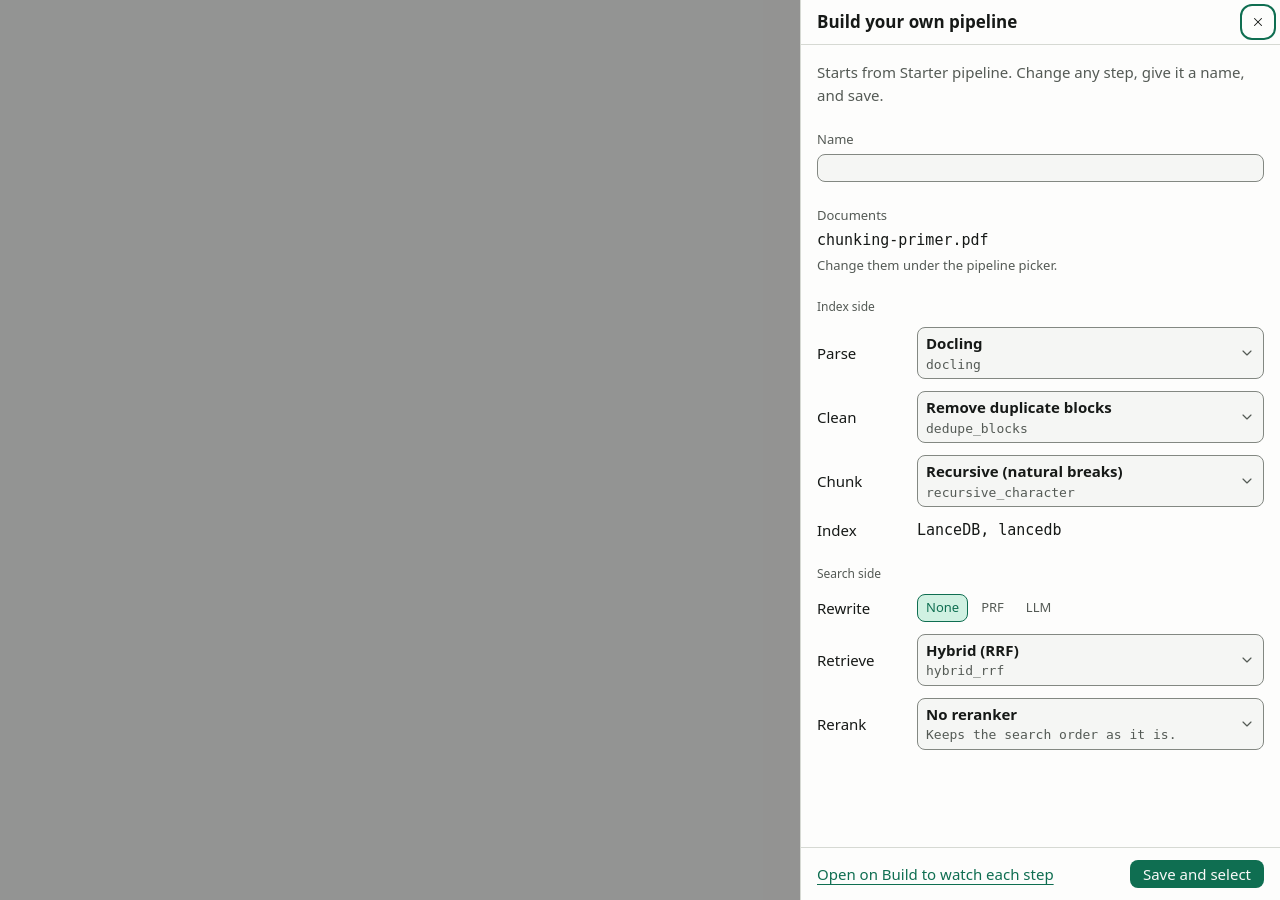
Build your own › shows why a save failed, from the page
Type "Mine" into the field labelled "Name" at (1040, 168), box x1=817 y1=154 x2=1264 y2=182
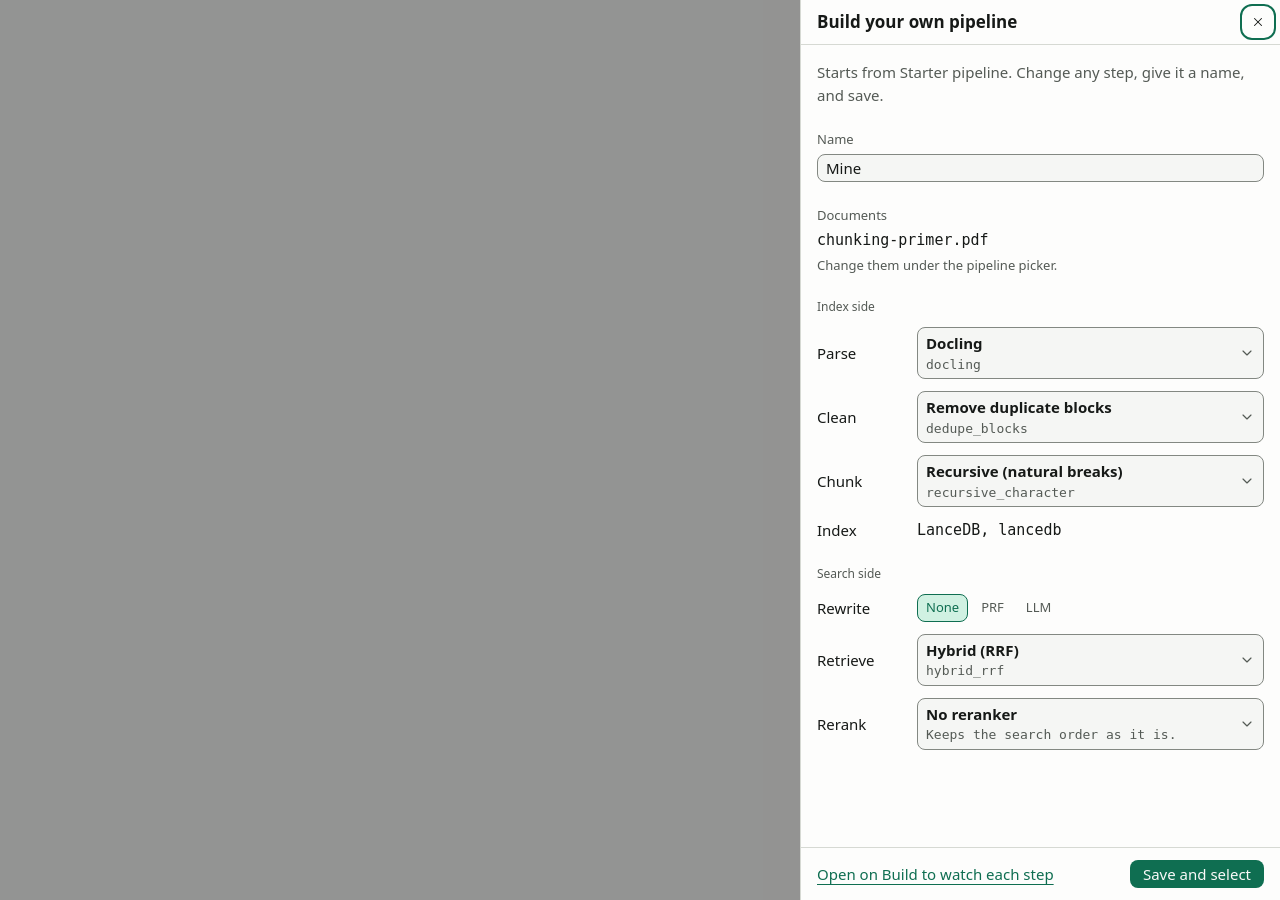
Click the button "Save and select" at (1197, 874), box x1=1130 y1=860 x2=1264 y2=888
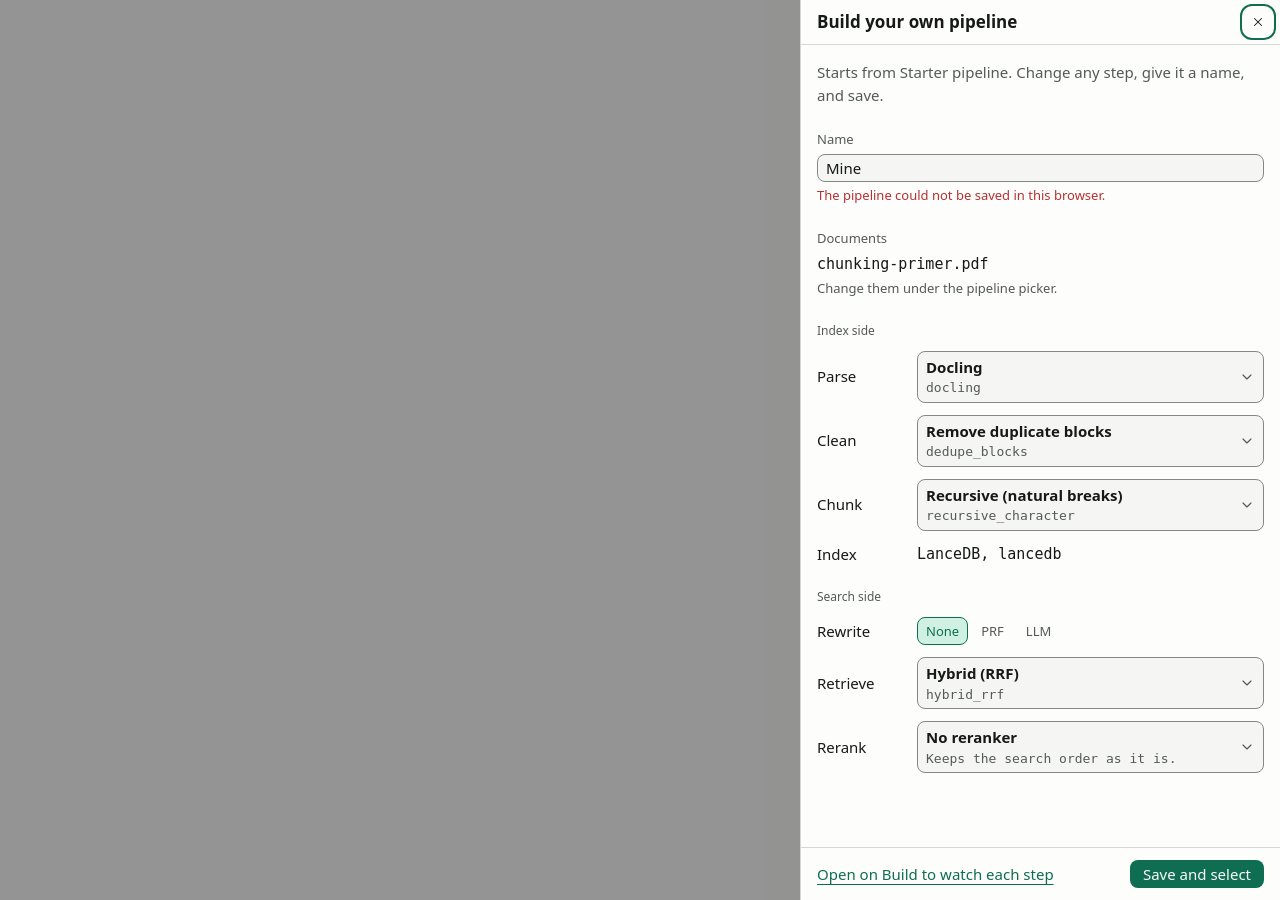
Check: the message reads "The pipeline could not be saved in this browser.", box x1=817 y1=186 x2=1105 y2=204
